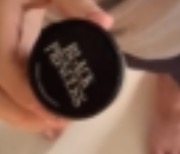blackprincess: (22, 18, 134, 124)
